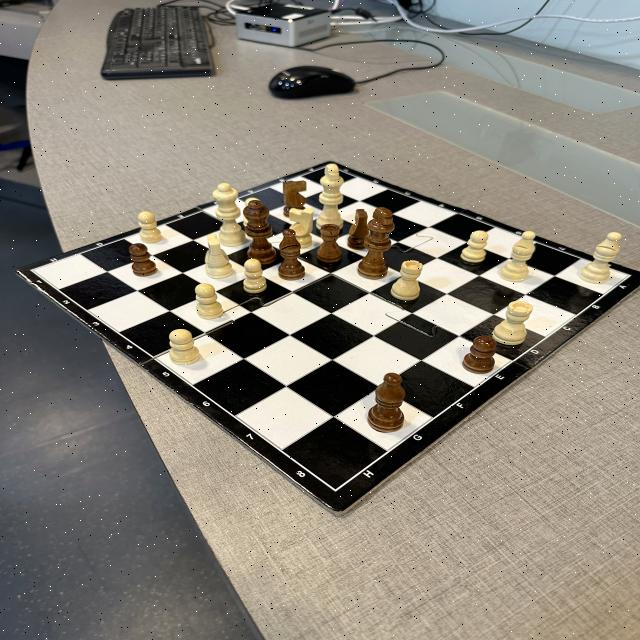Black-Bishop: (366, 372, 406, 432), (278, 228, 306, 280)
Black-King: (357, 207, 395, 280)
Black-Knight: (346, 208, 368, 250), (282, 180, 306, 218)
Black-Pawn: (462, 336, 498, 374), (128, 242, 158, 276)
Black-Queen: (243, 200, 277, 264)
Black-Rook: (316, 223, 344, 263)
White-Bishop: (578, 232, 622, 284), (499, 230, 536, 282)
White-King: (316, 163, 344, 231)
White-Knight: (204, 233, 233, 279), (289, 208, 315, 249)
White-Pawn: (169, 328, 201, 366), (194, 284, 224, 320), (244, 258, 268, 294), (461, 231, 488, 263), (138, 211, 164, 243), (245, 198, 258, 206)
White-Queen: (212, 183, 248, 247)
White-Rook: (492, 300, 534, 346), (389, 260, 424, 301)
